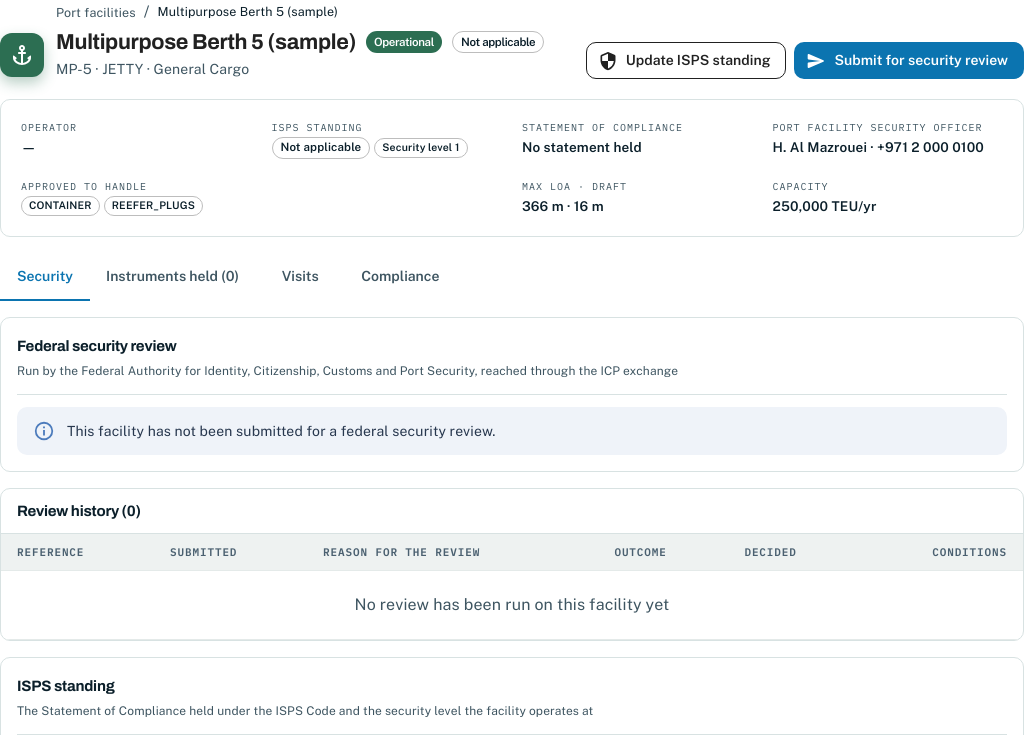
Test: the port-facility register › submits a facility for review with a reason, then asks the authority for the outcome
Expected: the text "Multipurpose Berth 5 (sample)" next to "Port facilities" is shown, [158, 4, 338, 19]
Expected: the message with test id "review-status" shows "not been submitted", [67, 423, 496, 439]
# the reason is required before the submission can go
Click the button "Submit for security review".
click(909, 61)  # box [794, 42, 1023, 79]
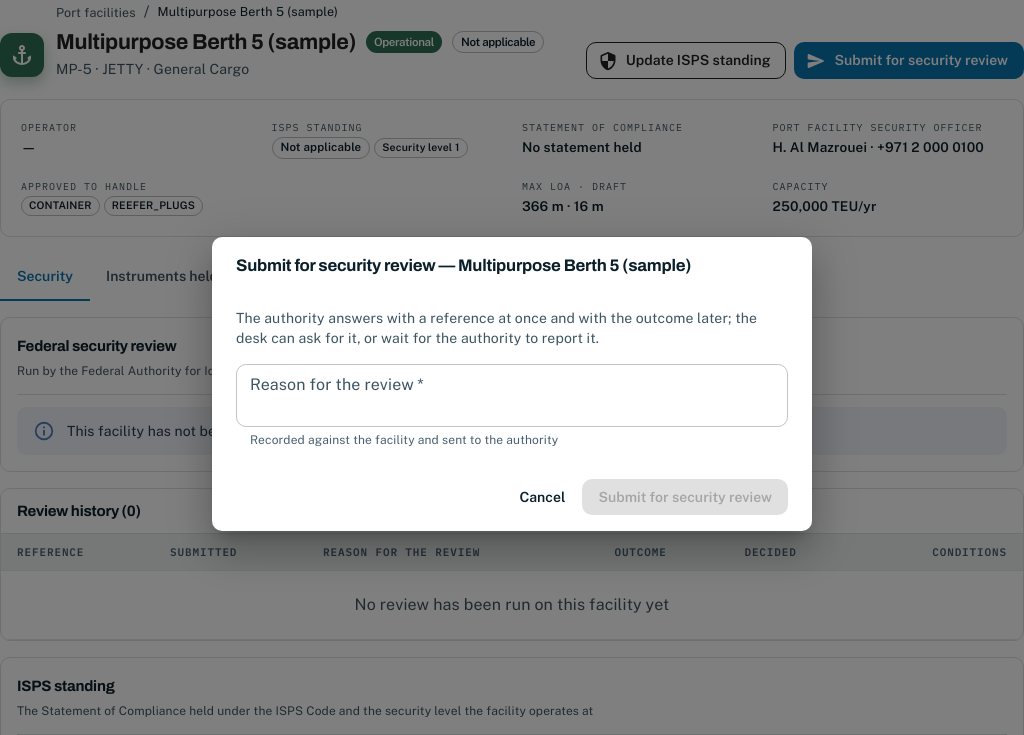
Expected: the button with test id "submit-review-confirm" is disabled, [582, 479, 788, 515]
Type "Change of terminal operator" into the text box labelled "Reason for the review *".
click(512, 395); type("Change of terminal operator")  # box [250, 372, 774, 418]
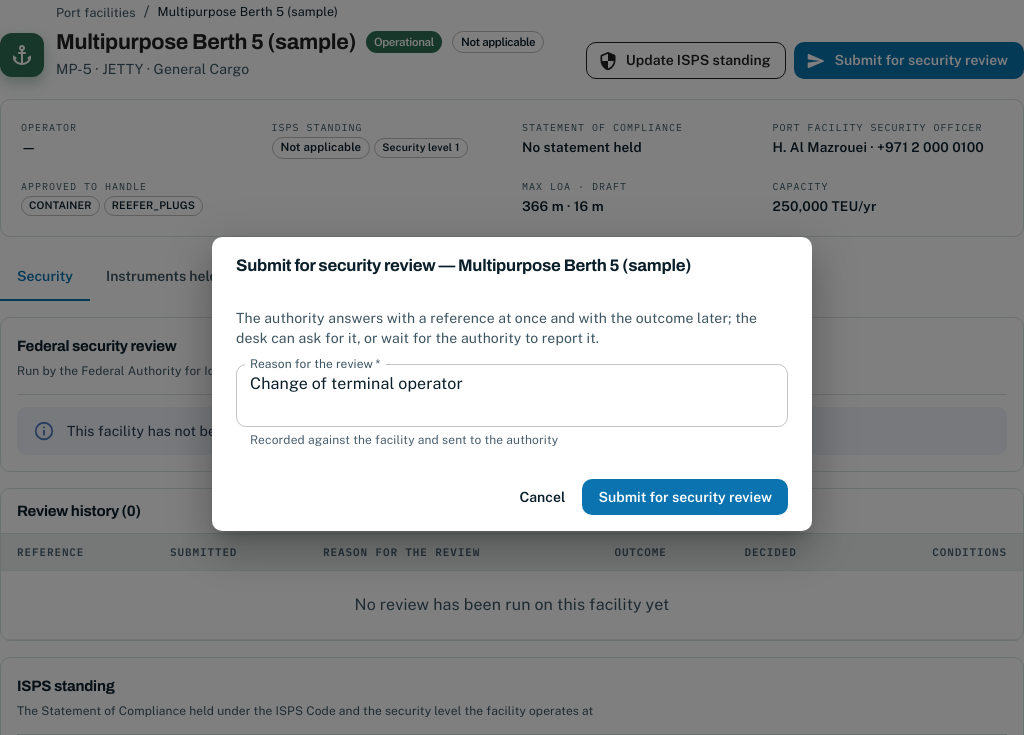
Expected: the button "Submit for security review" is enabled
Click the button "Submit for security review".
click(685, 497)  # box [582, 479, 788, 515]
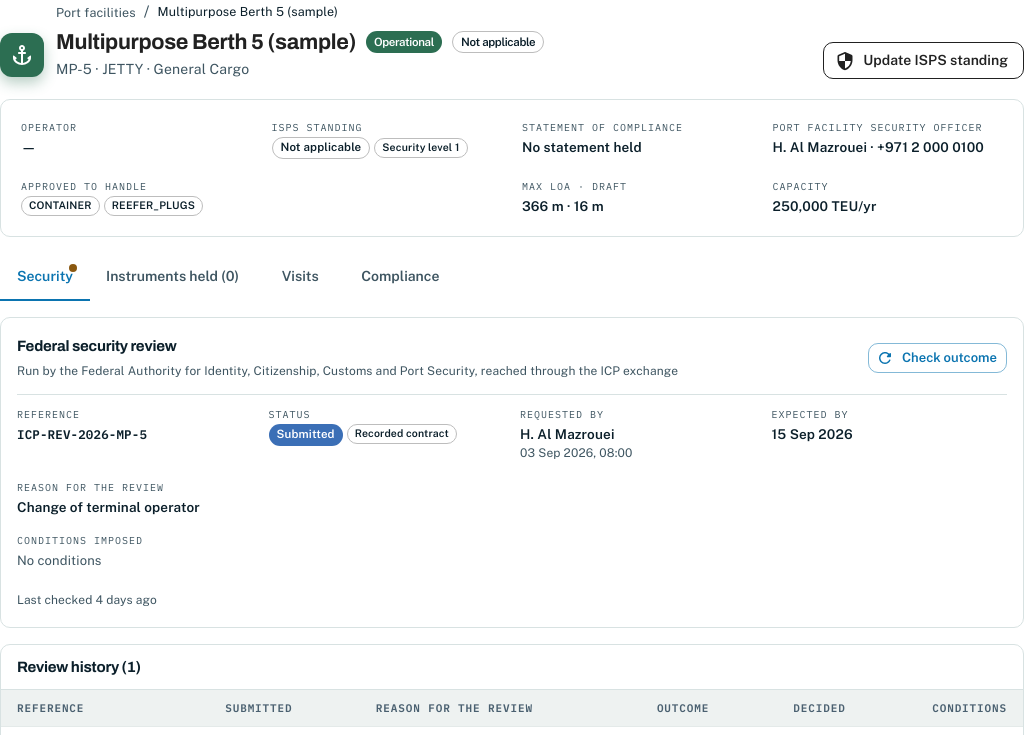
Expected: the element with test id "review-status" shows "Submitted", [276, 427, 335, 441]
Expected: the element with test id "security-review" shows "ICP-REV-2026-MP-5", [17, 426, 147, 442]
Expected: the element with test id "security-review" shows "Recorded contract", [355, 427, 449, 439]
# the outcome, asked for
Click the button with test id "check-review".
click(938, 358)  # box [868, 343, 1007, 374]
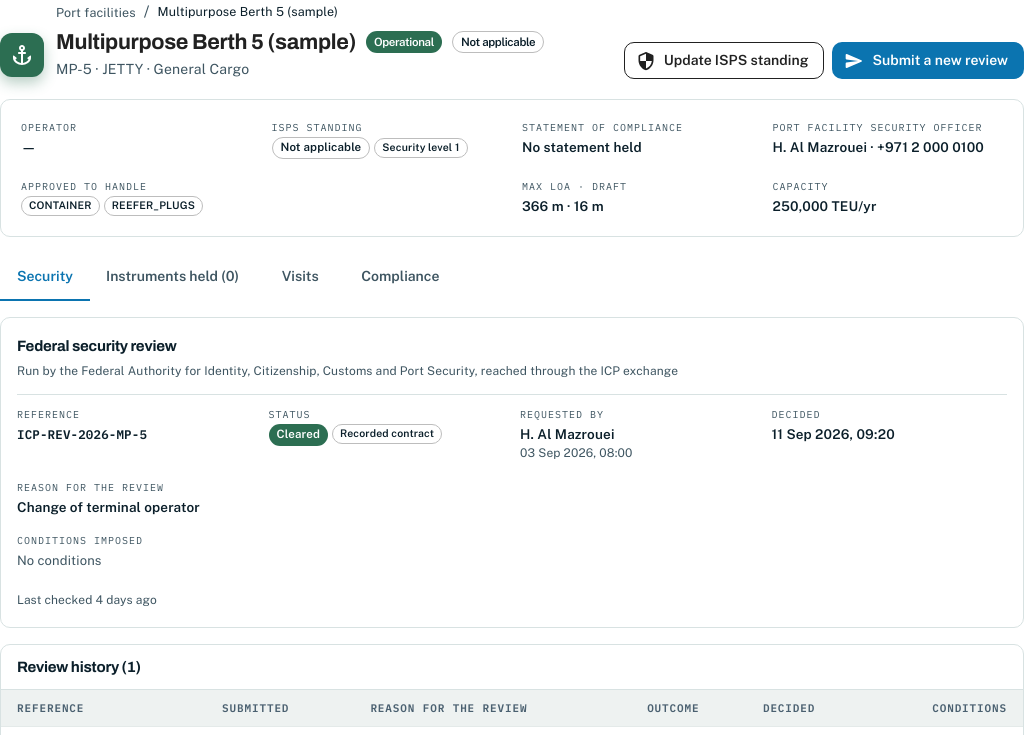
Expected: the element with test id "review-status" shows "Cleared", [276, 427, 320, 441]
Expected: the button with test id "check-review" is gone
Expected: the button with test id "submit-review" reads "Submit a new review", [832, 42, 1023, 79]
